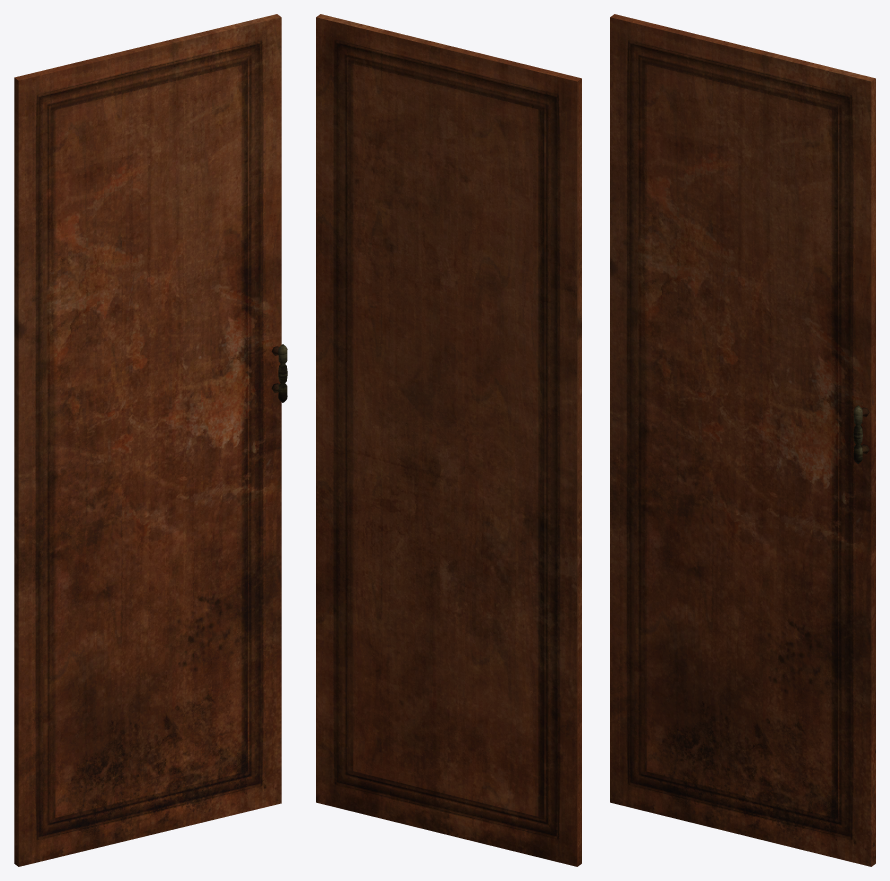
Rendered from closetLeftDoor01_a.FBX.
3 renders of one model, left to right at view 1: azimuth 30°, elevation 25°; view 2: azimuth 150°, elevation 25°; view 3: azimuth 330°, elevation 25°, orthographic.
Visible parts, largest first — view 1: SM_ClosetLeftDoor01; view 2: SM_ClosetLeftDoor01; view 3: SM_ClosetLeftDoor01.
Part boxes in pixels (x1=…): SM_ClosetLeftDoor01: x1=14, y1=14, x2=287, y2=866; SM_ClosetLeftDoor01: x1=316, y1=14, x2=581, y2=866; SM_ClosetLeftDoor01: x1=610, y1=14, x2=875, y2=866.
Bounding box in the file's own units: 61.48 × 176 × 5.99.
Materials: 1 (1 with a texture image).
